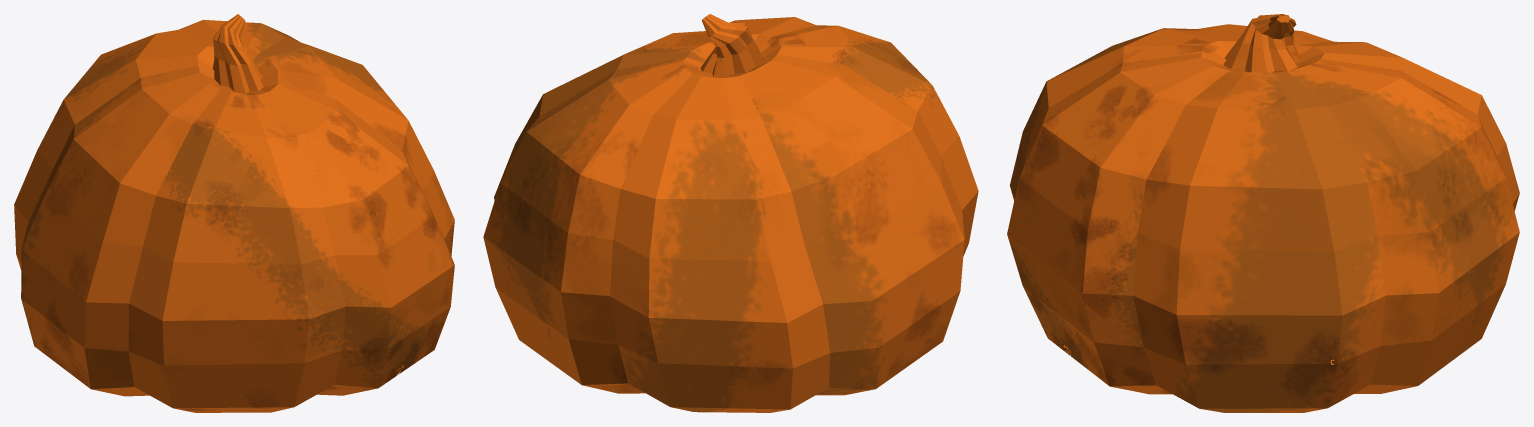
File: Pumpkin012.fbx
The picture shows the model from 3 angles, left to right: view 1: azimuth 30°, elevation 25°; view 2: azimuth 150°, elevation 25°; view 3: azimuth 270°, elevation 25°; orthographic projection. The views are drawn at different scales.
Parts seen in each view (by area): view 1: Pumpkin012; view 2: Pumpkin012; view 3: Pumpkin012.
Part boxes in pixels (x1,y1,x2,y2): Pumpkin012: [14, 14, 454, 412]; Pumpkin012: [483, 14, 978, 412]; Pumpkin012: [1007, 14, 1519, 412].
Size of the model in its own units: 146 by 120 by 163.
